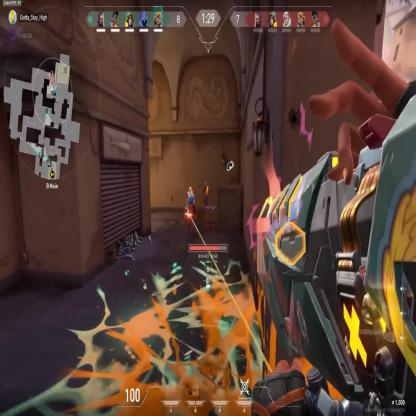enemy: (187, 188, 195, 225), (203, 181, 209, 217)
enemy_head: (189, 186, 192, 193), (205, 182, 207, 187)
